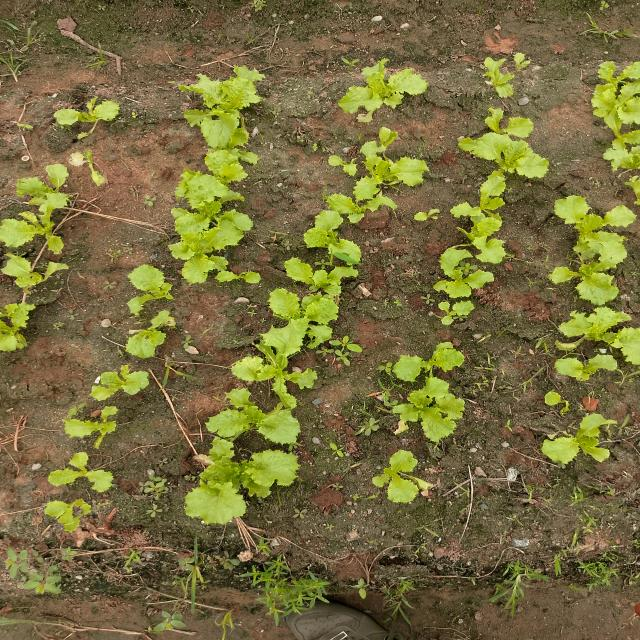Lettuce: (161, 449, 290, 516), (453, 111, 553, 195), (395, 348, 475, 441), (559, 302, 640, 378), (550, 230, 632, 304), (373, 441, 445, 515), (173, 206, 245, 279), (339, 51, 421, 112), (185, 61, 261, 125), (248, 324, 313, 395), (435, 236, 508, 297), (346, 138, 420, 198), (542, 408, 613, 468), (261, 290, 355, 335), (210, 394, 288, 444), (0, 197, 70, 245), (46, 94, 122, 136), (126, 306, 182, 360), (89, 359, 153, 403), (554, 196, 636, 230), (307, 210, 358, 263), (51, 447, 112, 491), (278, 258, 362, 288), (452, 195, 507, 240), (20, 156, 81, 196), (61, 404, 125, 442), (42, 494, 98, 536), (206, 130, 252, 181), (1, 256, 68, 288), (592, 90, 640, 134), (181, 171, 234, 210), (475, 58, 531, 94), (588, 55, 640, 93), (128, 264, 170, 310), (0, 301, 36, 352), (606, 143, 640, 181)
